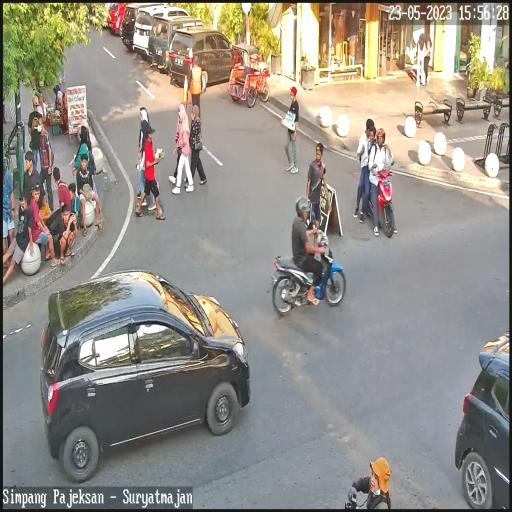mobil: (39, 270, 251, 480), (170, 28, 243, 90), (134, 6, 190, 62), (151, 17, 206, 74)
motor: (272, 223, 346, 322), (358, 154, 394, 244)
